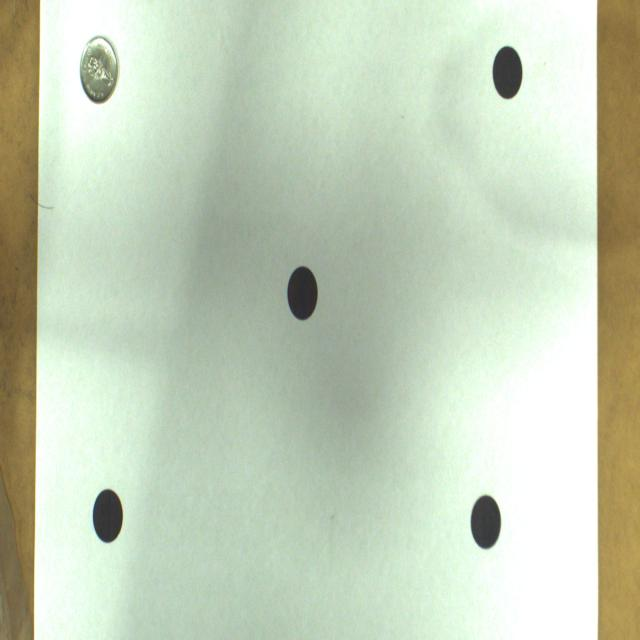space: (80, 38, 118, 102), (92, 489, 122, 542), (492, 47, 522, 100), (471, 496, 501, 549), (288, 267, 318, 320)
